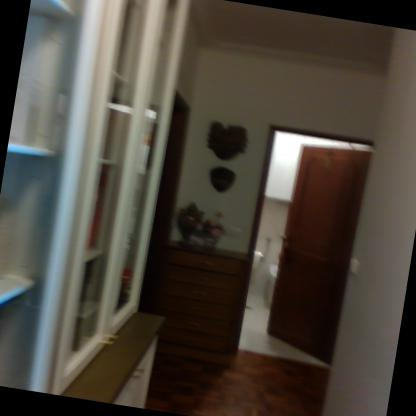semi: (223, 116, 384, 378)
